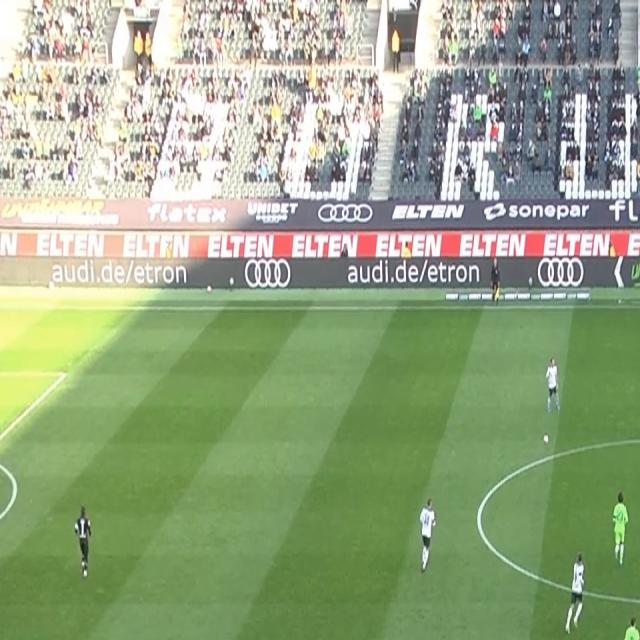ball: (542, 433, 550, 445)
